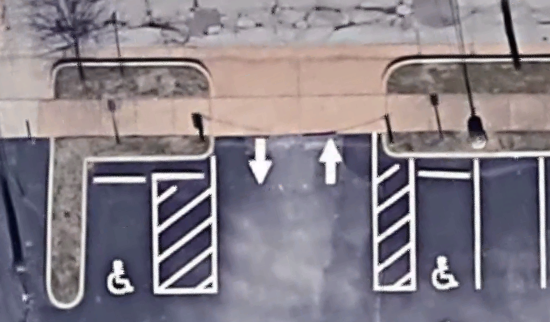Vacant: (476, 160, 544, 289), (84, 179, 157, 295), (412, 177, 479, 289)
